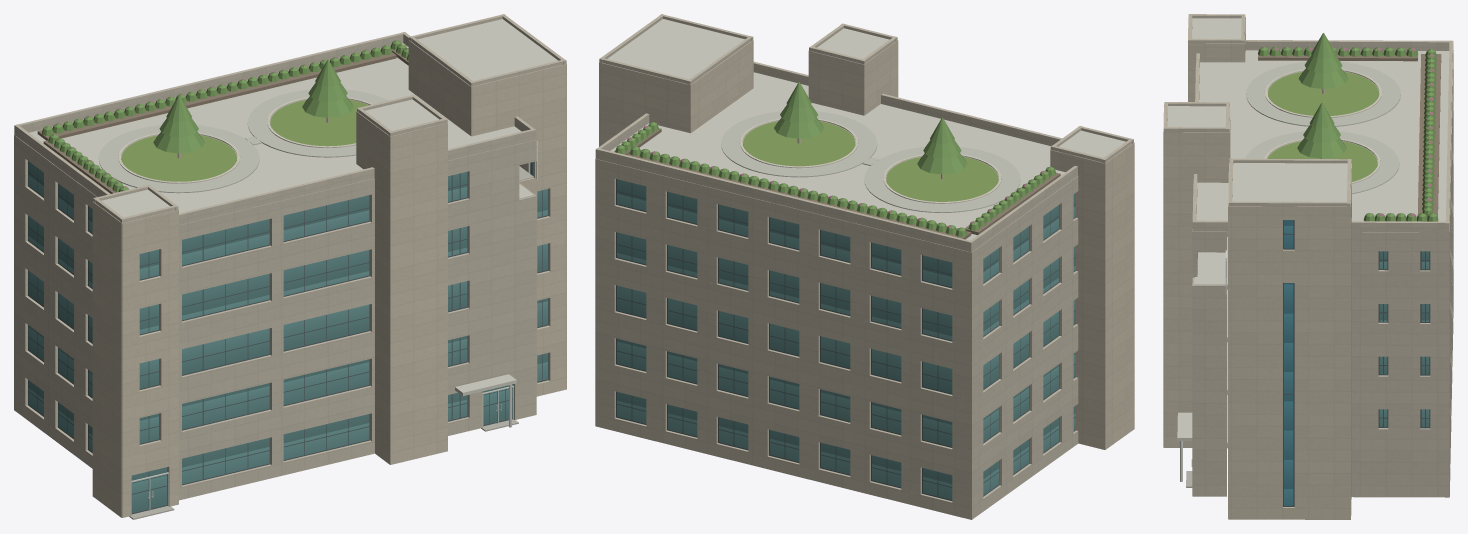
3 renders of one model, left to right at view 1: azimuth 30°, elevation 25°; view 2: azimuth 150°, elevation 25°; view 3: azimuth 270°, elevation 25°, orthographic. The views are drawn at different scales.
Parts seen in each view (by area): view 1: practice__stone-wall, practice__core-wall, practice__pale-glass, practice__roof, practice__foliage, practice__frame, practice__grass, practice__garden-path, practice__soil, practice__light-stone, practice__white-frame, practice__canopy; view 2: practice__stone-wall, practice__pale-glass, practice__core-wall, practice__roof, practice__foliage, practice__frame, practice__grass, practice__garden-path, practice__soil, practice__light-stone; view 3: practice__core-wall, practice__stone-wall, practice__roof, practice__foliage, practice__garden-path, practice__grass, practice__blue-glass, practice__soil, practice__frame, practice__pale-glass, practice__light-stone, practice__canopy.
Boxes of the visible parts, <box> form: practice__stone-wall: <box>14,14,566,500</box>; practice__core-wall: <box>92,40,566,517</box>; practice__pale-glass: <box>28,161,547,513</box>; practice__roof: <box>29,19,557,217</box>; practice__foliage: <box>42,40,408,191</box>; practice__frame: <box>28,161,548,514</box>; practice__grass: <box>121,99,368,181</box>; practice__garden-path: <box>98,89,388,193</box>; practice__soil: <box>37,49,408,193</box>; practice__light-stone: <box>118,97,372,183</box>; practice__white-frame: <box>131,141,537,510</box>; practice__canopy: <box>455,374,516,395</box>; practice__stone-wall: <box>595,14,1133,519</box>; practice__pale-glass: <box>617,179,1075,499</box>; practice__core-wall: <box>599,40,1134,449</box>; practice__roof: <box>607,19,1125,240</box>; practice__foliage: <box>615,82,1055,236</box>; practice__frame: <box>616,179,1075,500</box>; practice__grass: <box>743,121,998,201</box>; practice__garden-path: <box>721,111,1020,212</box>; practice__soil: <box>614,128,1060,239</box>; practice__light-stone: <box>740,118,1001,203</box>; practice__core-wall: <box>1163,17,1351,519</box>; practice__stone-wall: <box>1164,14,1453,497</box>; practice__roof: <box>1167,18,1449,445</box>; practice__foliage: <box>1258,33,1438,221</box>; practice__garden-path: <box>1245,62,1400,194</box>; practice__grass: <box>1267,71,1379,181</box>; practice__blue-glass: <box>1284,220,1293,505</box>; practice__soil: <box>1258,50,1441,221</box>; practice__frame: <box>1283,220,1430,506</box>; practice__pale-glass: <box>1379,251,1429,427</box>; practice__light-stone: <box>1264,69,1381,183</box>; practice__canopy: <box>1177,412,1192,441</box>.
Size of the model in its own units: 32.15 by 22.47 by 17.98.
Materials: 15 (5 with a texture image).
